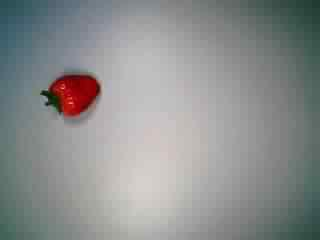strawberry: (37, 65, 105, 129)
